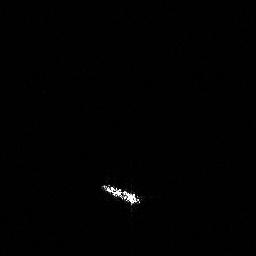ship: (97, 181, 142, 208)
